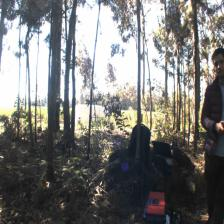trunktrack_idkeyframe: (46, 29, 61, 160), (134, 57, 140, 162), (63, 66, 70, 138), (87, 88, 93, 153), (28, 75, 33, 143)
